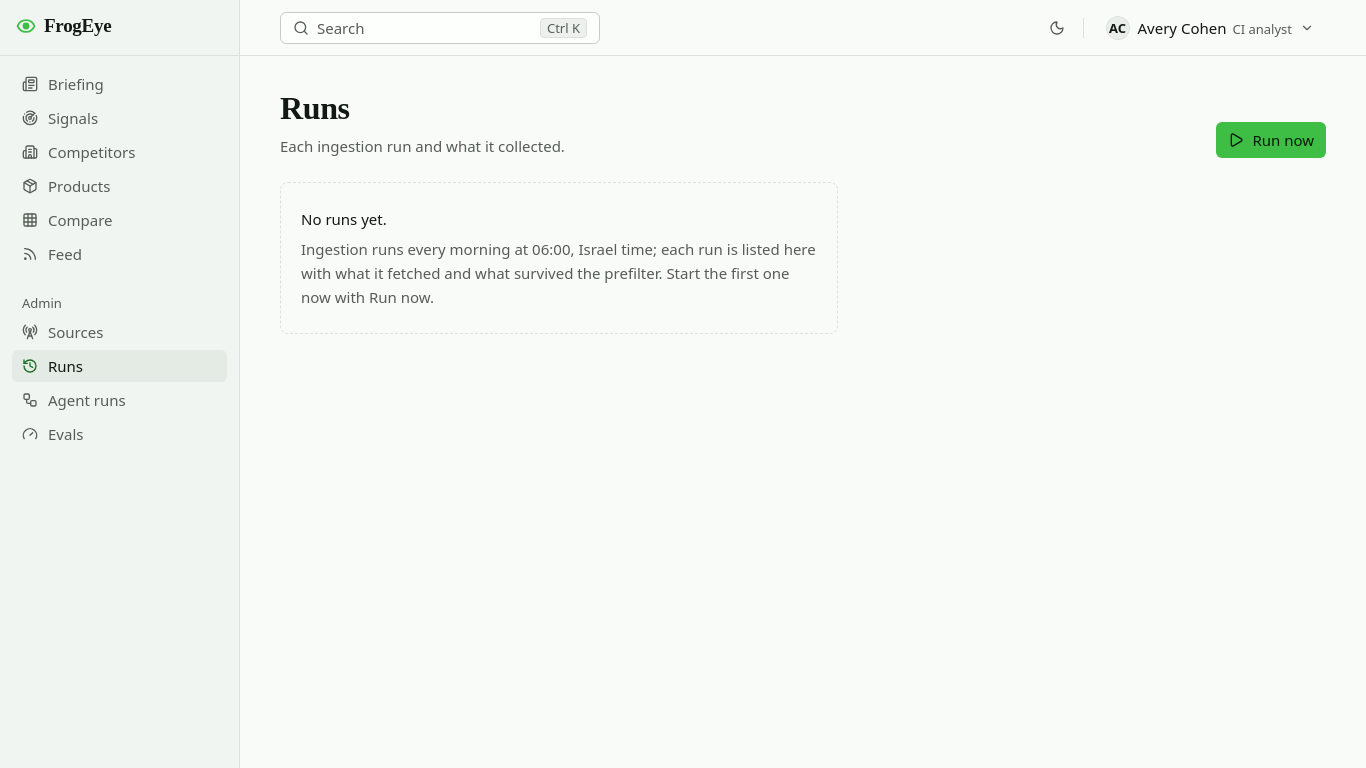
Test case: Run now posts and handles conflict
Click the button "Run now": (1271, 140) [1216, 122, 1326, 158]
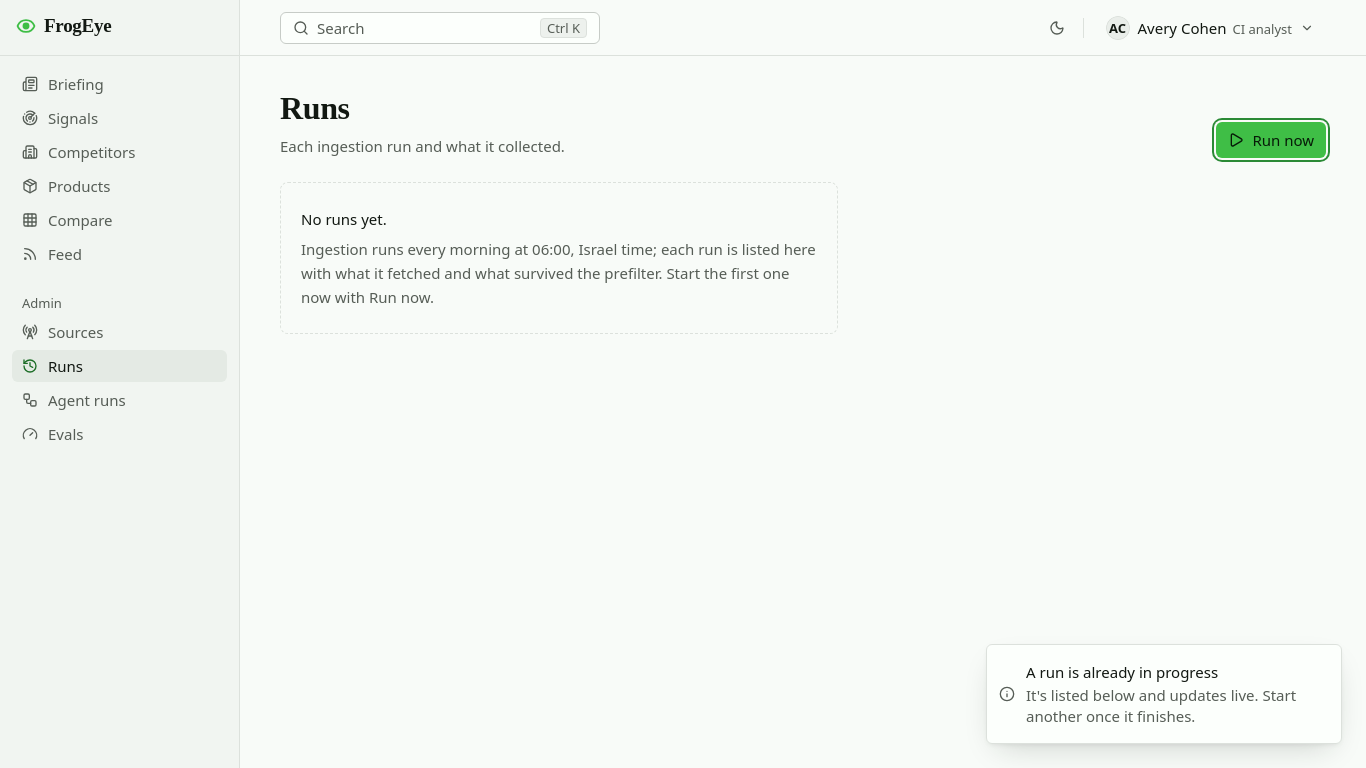
Check: the text "A run is already in progress" is shown, box [1026, 662, 1218, 682]
